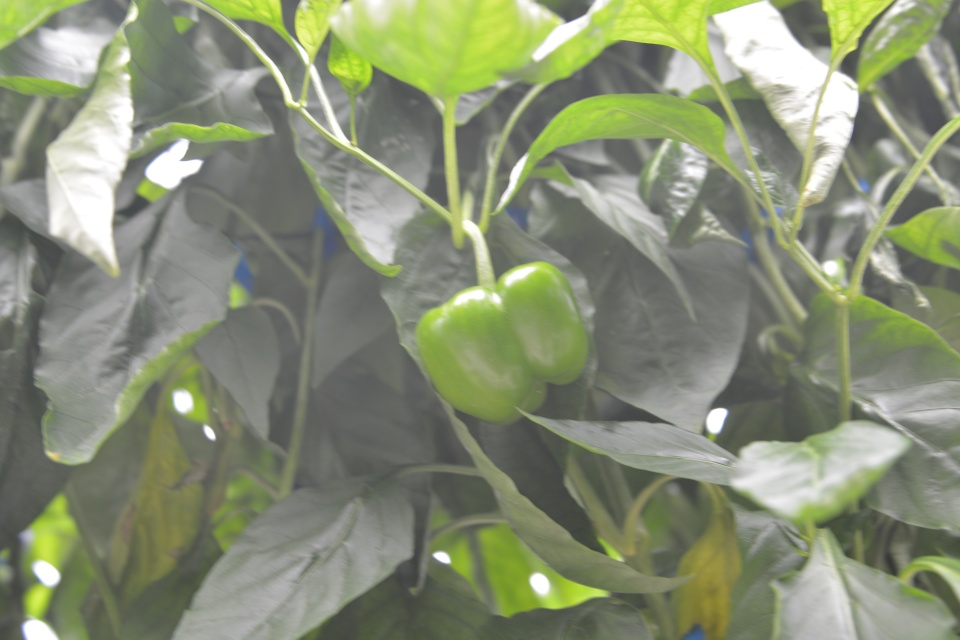fruit: (413, 257, 590, 426)
